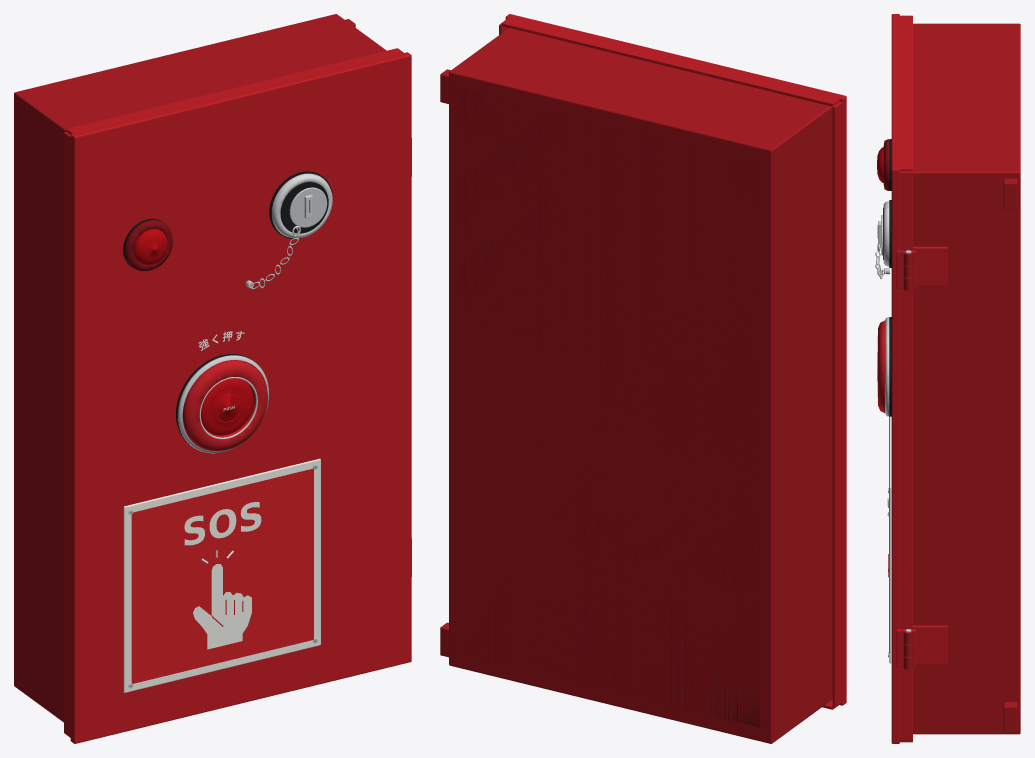
The model's file is Emergency_SOS_Box.glb.
The picture shows the model from 3 angles, left to right: view 1: azimuth 30°, elevation 25°; view 2: azimuth 150°, elevation 25°; view 3: azimuth 270°, elevation 25°; orthographic projection. The views are drawn at different scales.
Visible parts, largest first — view 1: A | cabinet shell, F | SOS sign, E | manual push button, D | auxiliary socket and tether, C | indicator lamp; view 2: A | cabinet shell; view 3: A | cabinet shell, B | right hinges, E | manual push button, D | auxiliary socket and tether, F | SOS sign, C | indicator lamp.
Boxes of the visible parts, box(x1,y1,x2,y2) form: A | cabinet shell: box(14, 14, 411, 743); F | SOS sign: box(123, 458, 320, 692); E | manual push button: box(176, 331, 268, 453); D | auxiliary socket and tether: box(245, 171, 332, 289); C | indicator lamp: box(123, 218, 172, 271); A | cabinet shell: box(440, 14, 846, 743); A | cabinet shell: box(891, 14, 1020, 743); B | right hinges: box(896, 246, 947, 669); E | manual push button: box(877, 317, 891, 416); D | auxiliary socket and tether: box(875, 200, 891, 279); F | SOS sign: box(887, 416, 891, 663); C | indicator lamp: box(877, 139, 891, 190).
Size of the model in its own units: 0.3334 by 0.56 by 0.1284.
